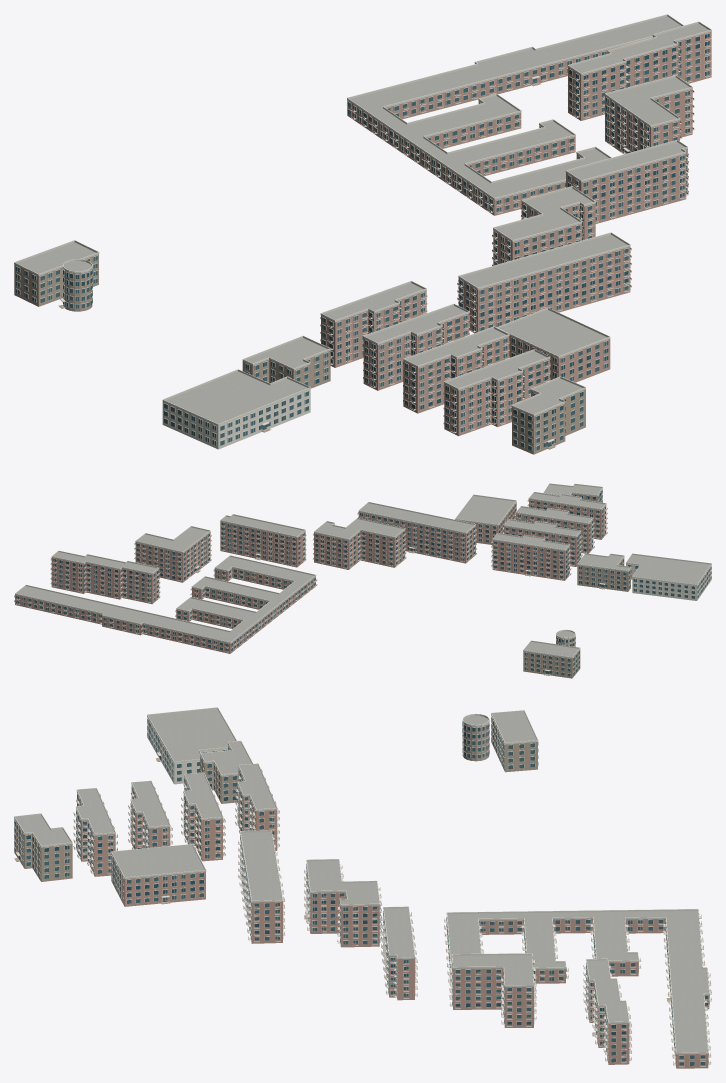
File: chunk-p1-n1.glb
3 renders of one model, top to bottom at view 1: azimuth 30°, elevation 25°; view 2: azimuth 150°, elevation 25°; view 3: azimuth 270°, elevation 25°, orthographic. The views are drawn at different scales.
Visible parts, largest first — view 1: chunk-p1-n1; view 2: chunk-p1-n1; view 3: chunk-p1-n1.
Part boxes in pixels (x1=…): chunk-p1-n1: x1=14, y1=14, x2=711, y2=454; chunk-p1-n1: x1=14, y1=483, x2=711, y2=678; chunk-p1-n1: x1=14, y1=707, x2=711, y2=1068.
Bounding box in the file's own units: 362 × 27.98 × 311.
Materials: 6 (2 with a texture image).
